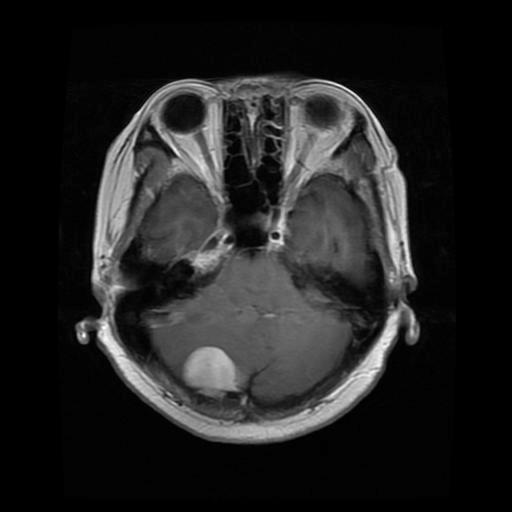Tumour-Meningioma: (164, 334, 245, 409)
